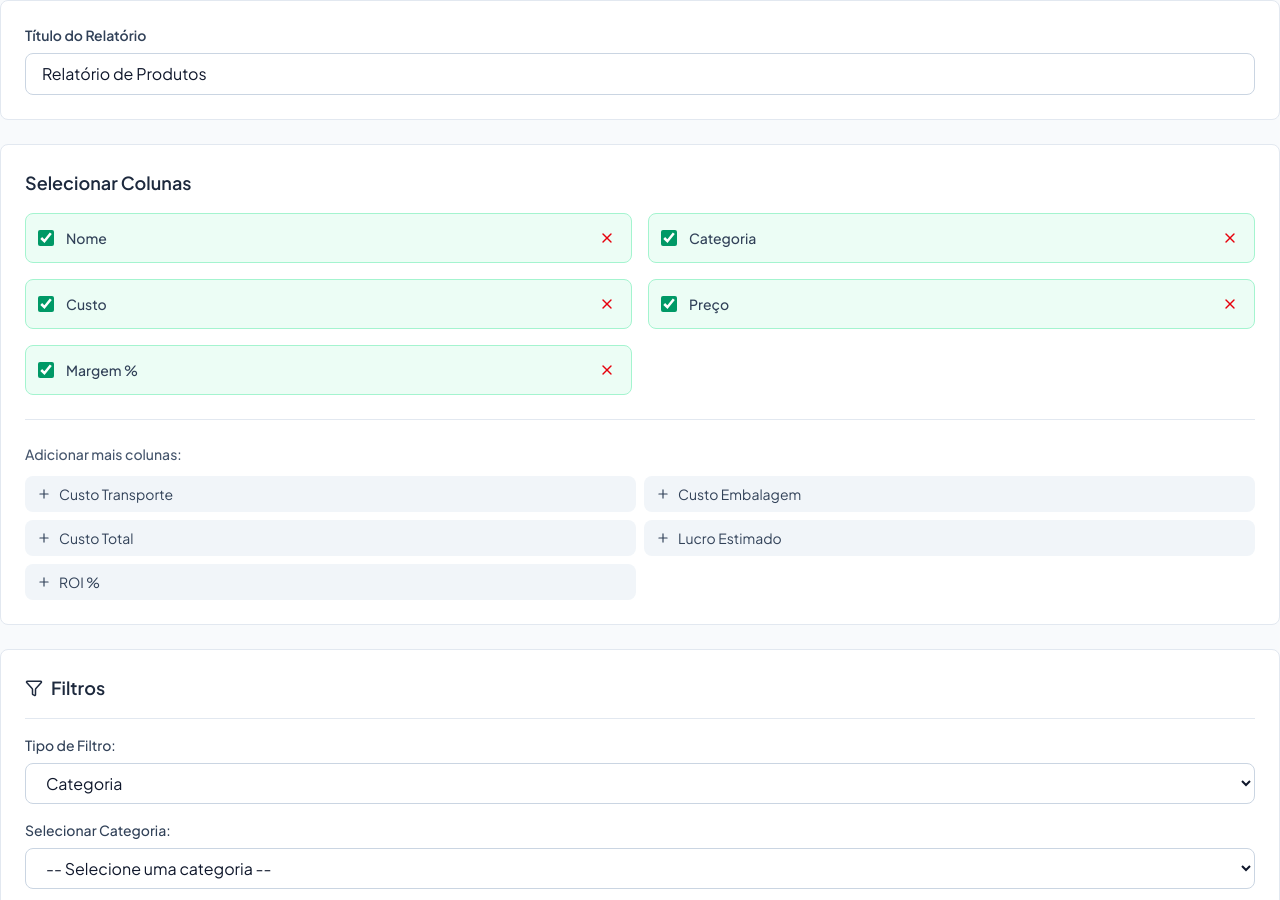
ReportBuilder - Filter Functionality › Adding Filters › should add category filter
Select "Category A" in the dropdown showing "-- Selecione uma categoria --" below "Selecionar Categoria:" at {"x": 640, "y": 868}, box [25, 848, 1255, 889]
(page scrolled)
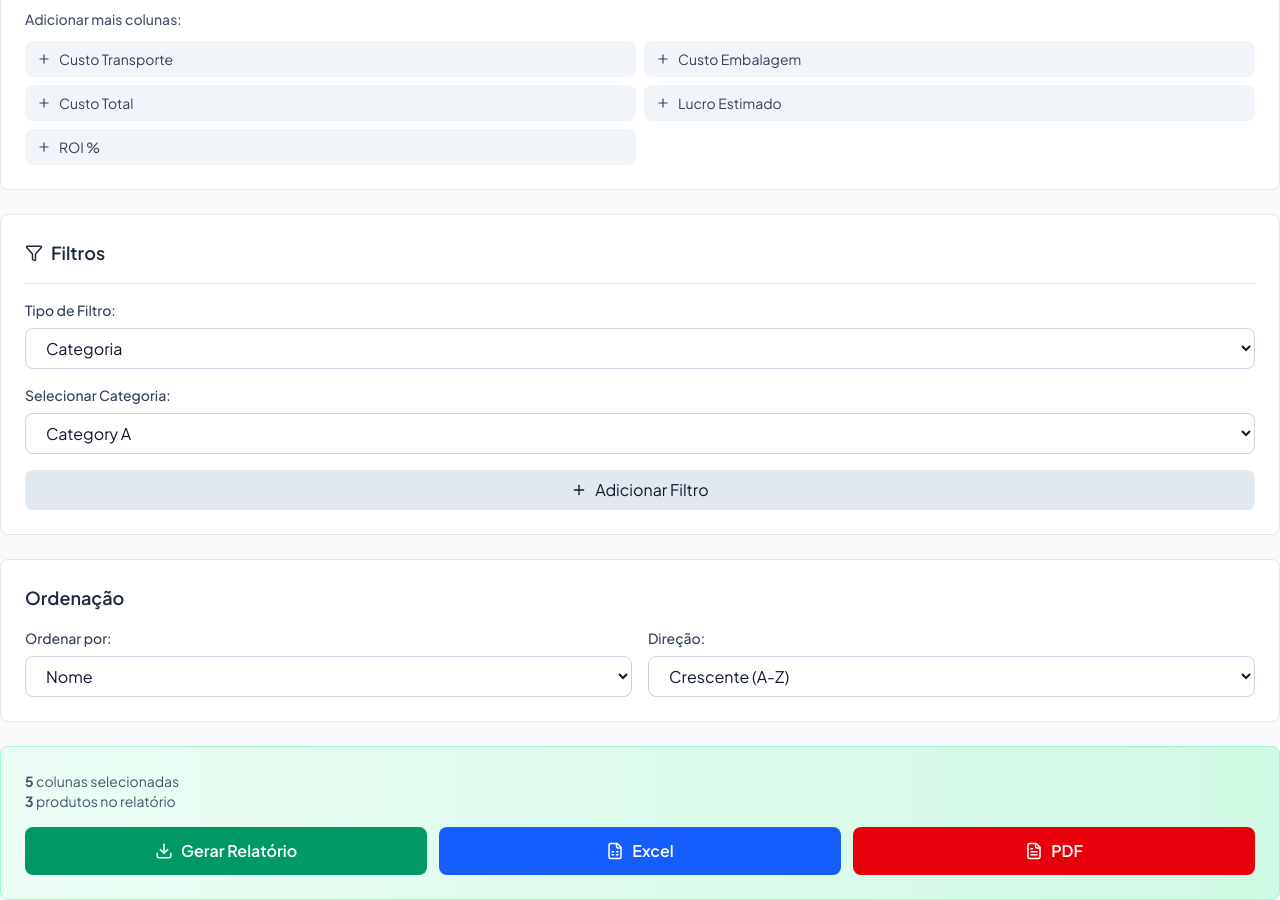
Click the button "Adicionar Filtro" at {"x": 640, "y": 490}, box [25, 470, 1255, 510]
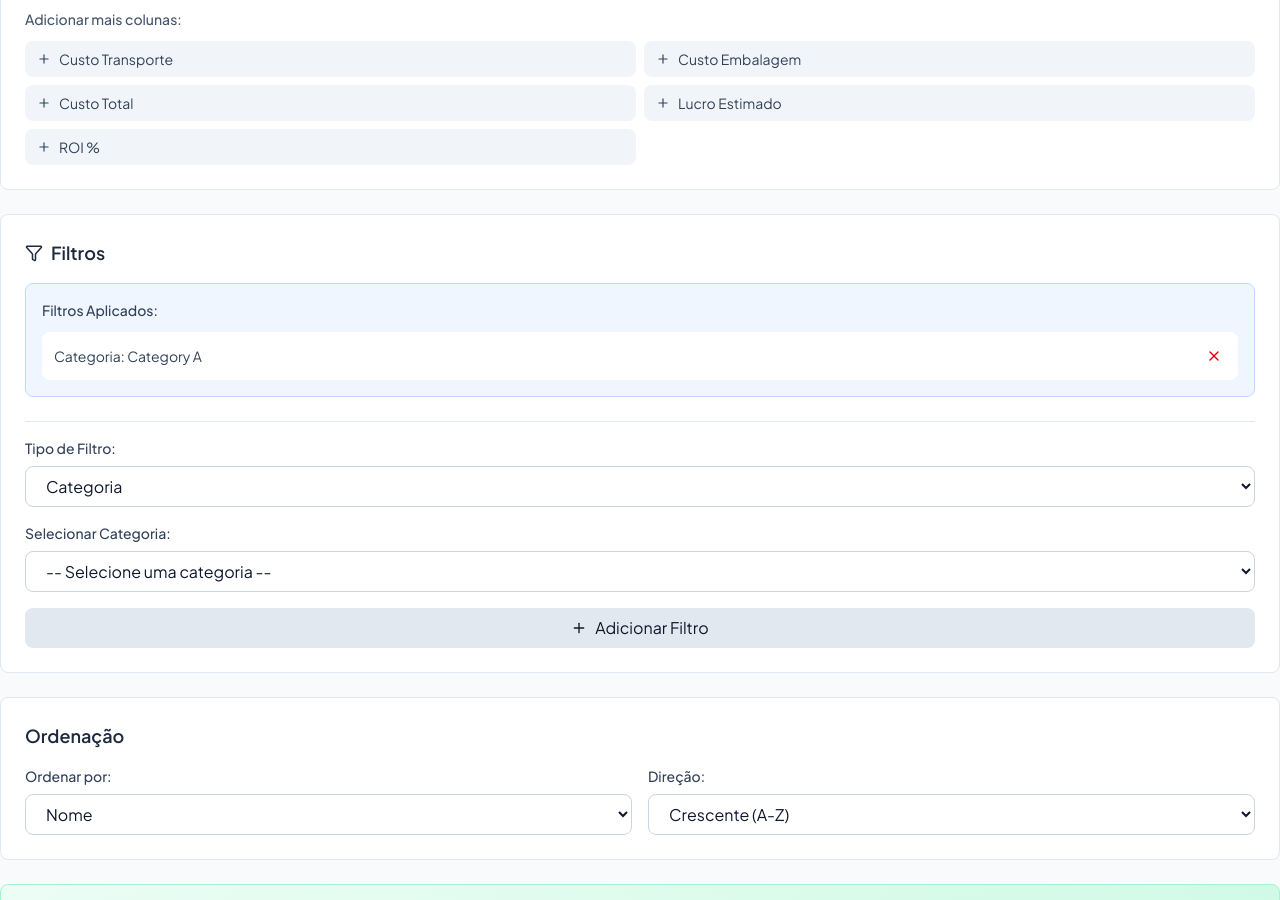
Check: the text "Categoria: Category A" is shown, box [54, 346, 202, 366]
